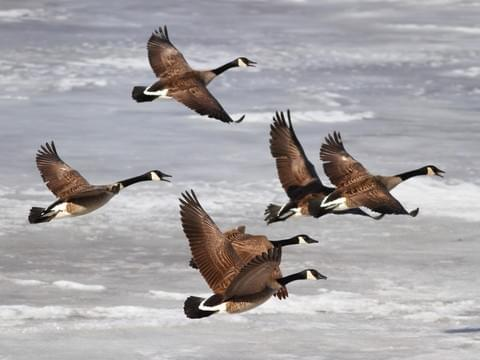goose: (174, 187, 328, 325), (123, 23, 259, 126), (262, 107, 380, 221), (24, 139, 174, 228), (309, 130, 447, 220), (189, 224, 320, 276)
